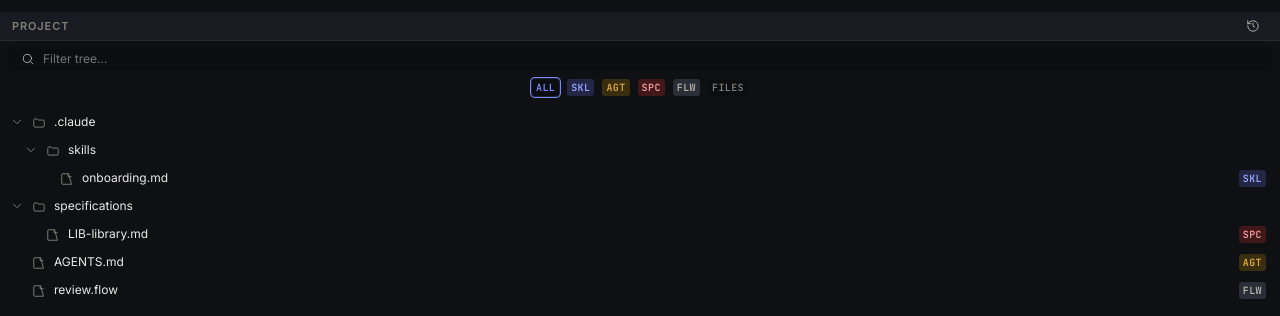
Test: Library filesystem tree › does not offer Notes on a folder context menu
Right-click the text "specifications" at (94, 206), box x1=54 y1=198 x2=133 y2=213
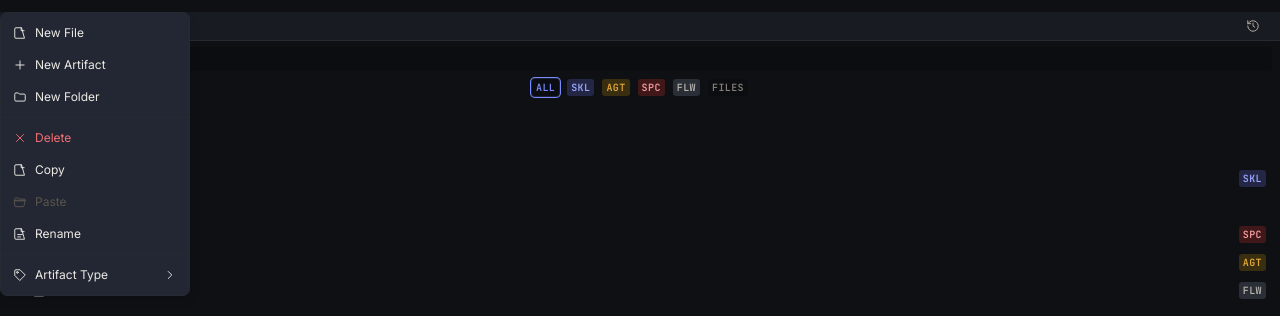
Now the text "Delete" is shown, box x1=13 y1=130 x2=71 y2=145
Now the text "Rename" is shown, box x1=13 y1=226 x2=81 y2=241
